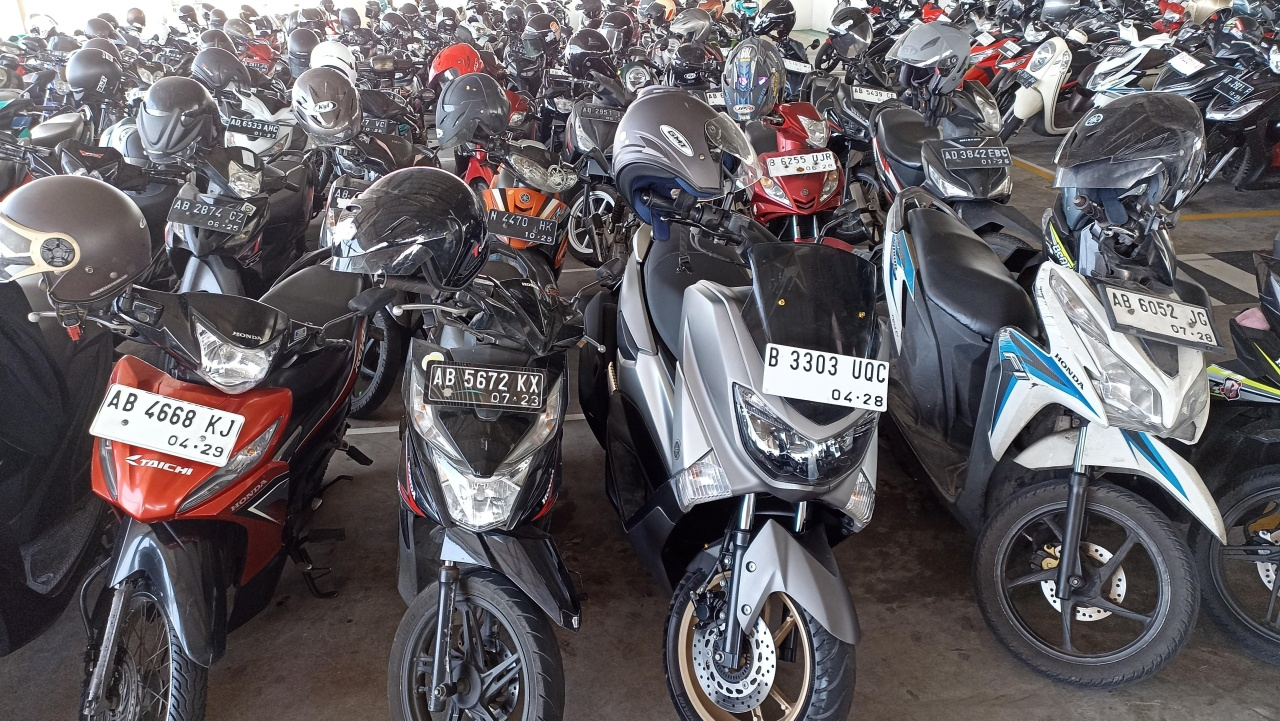plate: (89, 384, 245, 467), (762, 342, 889, 413), (1100, 283, 1226, 352), (424, 361, 547, 413), (166, 197, 248, 235), (485, 209, 558, 245), (767, 151, 837, 177), (942, 146, 1013, 170), (226, 117, 280, 140), (1213, 75, 1254, 102)
